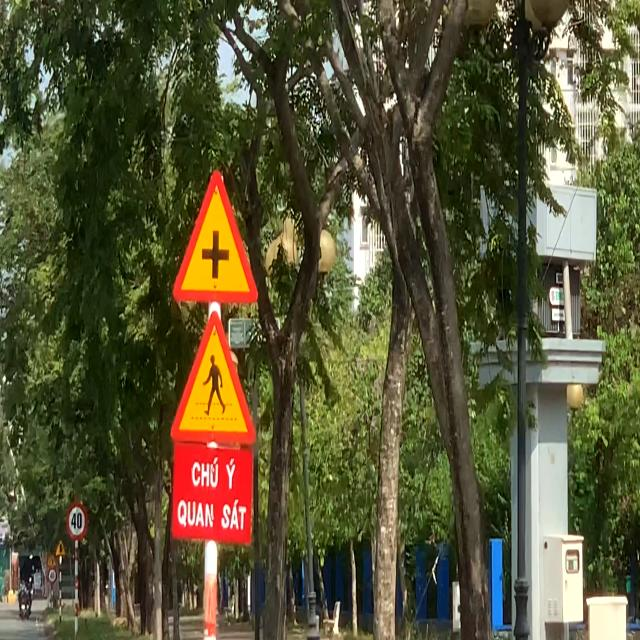P.127: (64, 501, 91, 541)
W.205a: (170, 159, 262, 311)
W.207b: (54, 539, 69, 559)
W.224: (168, 307, 260, 448)
